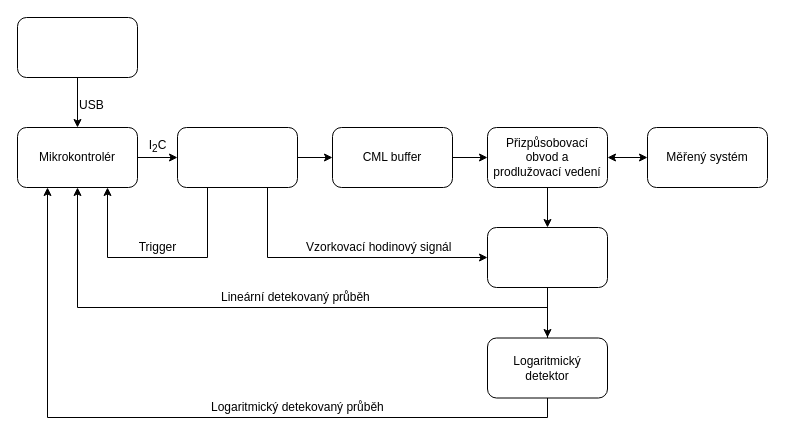
Image size: 785x443. Some labels were removed from this diagram. The shapes that lost their labels are listed below. From the top down, each one's centre as x and y in pixels, then its label:
the point at 77,47: PC
the point at 237,157: PLL Si5351
the point at 547,257: Vzorkovač
